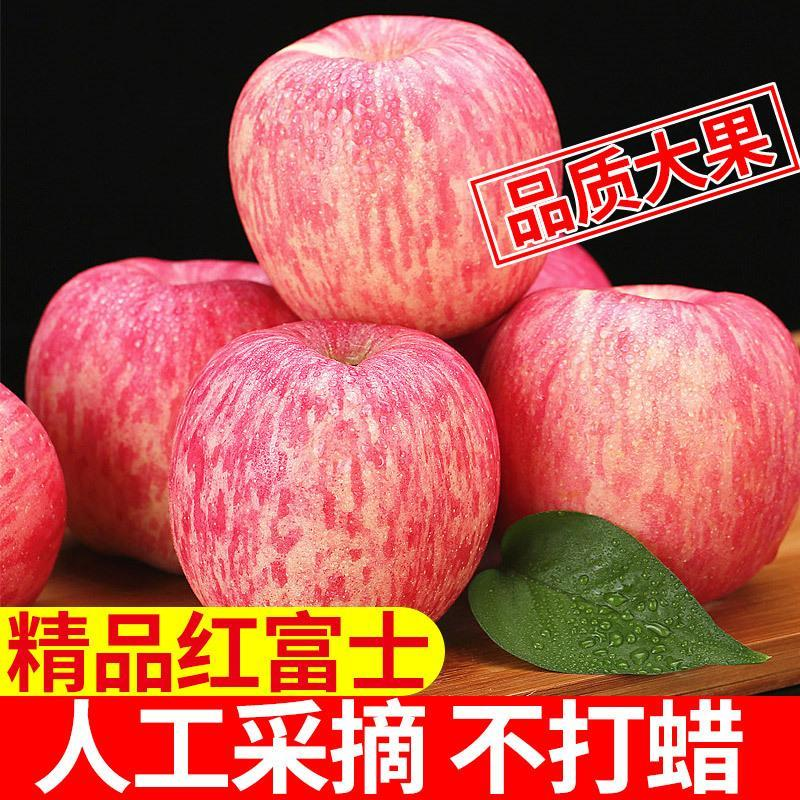apple: (220, 13, 564, 337), (476, 277, 789, 614), (170, 321, 507, 621), (27, 253, 294, 584), (1, 381, 63, 607)
